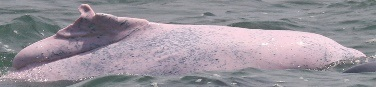fin: (7, 2, 370, 83)
